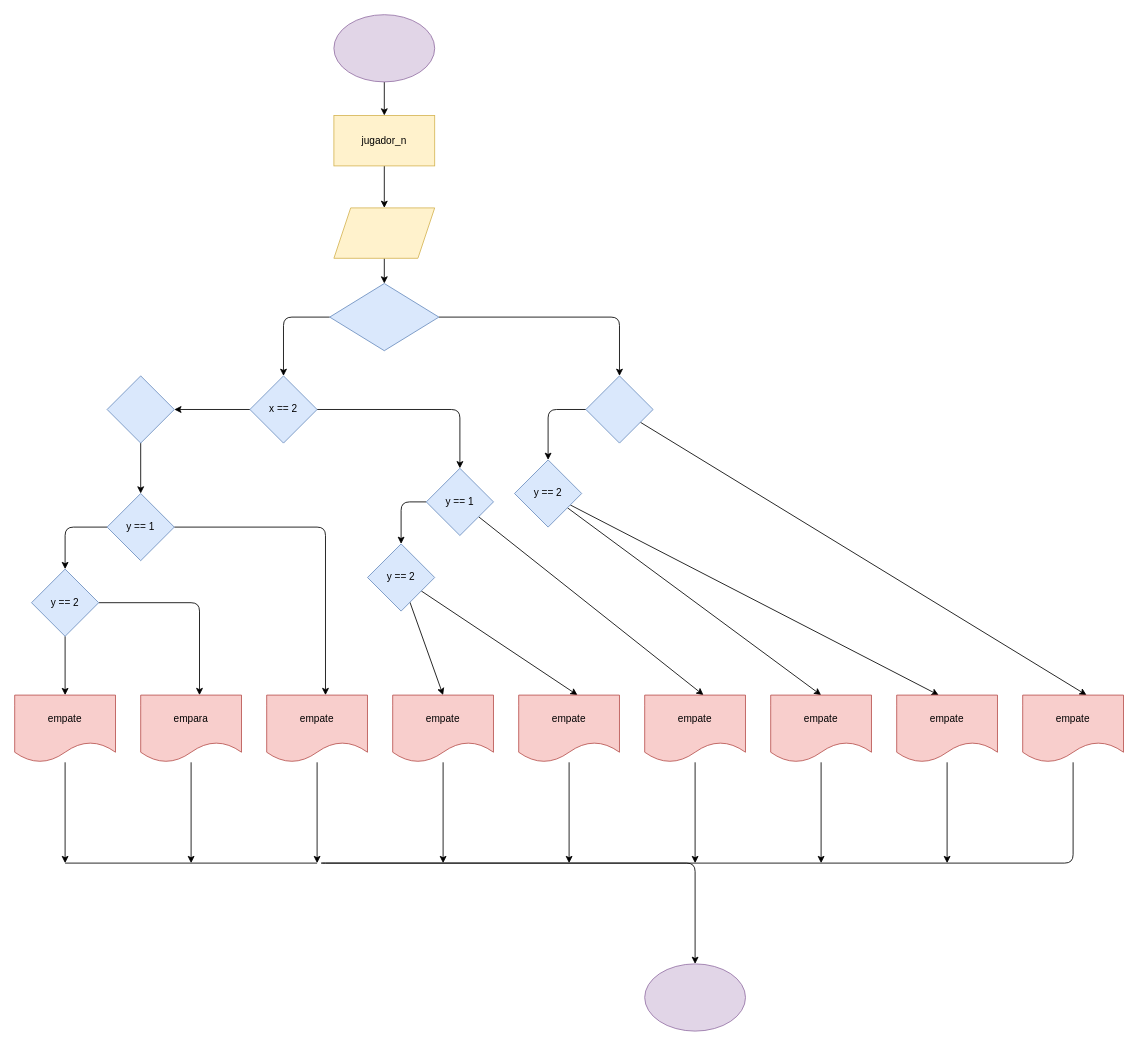
Some shapes in this 1138 by 1046 pixel diagram are drawn without their labels. The box of each missing label's shape, as (x1, y1, x2, y2) in pixels:
fin: (644, 963, 746, 1031)
inicio: (333, 14, 435, 82)
maquina_n: (333, 207, 435, 258)
x == 1: (329, 283, 439, 351)
x == 3: (106, 375, 174, 443)
y== 1: (585, 375, 653, 443)
